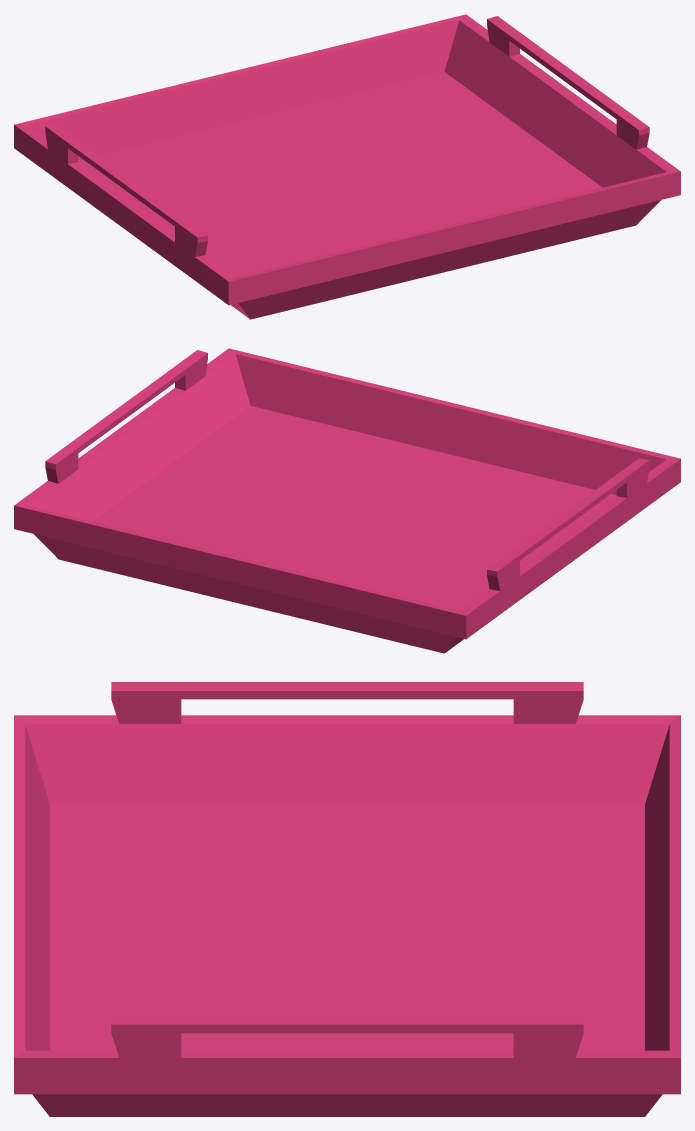
File: Borrar al terminar de usar.fbx
3 views of the same model, one above another, from view 1: azimuth 30°, elevation 25°; view 2: azimuth 150°, elevation 25°; view 3: azimuth 270°, elevation 25° (orthographic). The views are drawn at different scales.
Parts seen in each view (by area): view 1: Cube; view 2: Cube; view 3: Cube.
Part boxes in pixels (box(x1,y1,x2,y2)): Cube: box(14, 14, 680, 319); Cube: box(14, 348, 680, 653); Cube: box(14, 682, 680, 1116).
Bounding box in the file's own units: 175 × 27.95 × 144.
